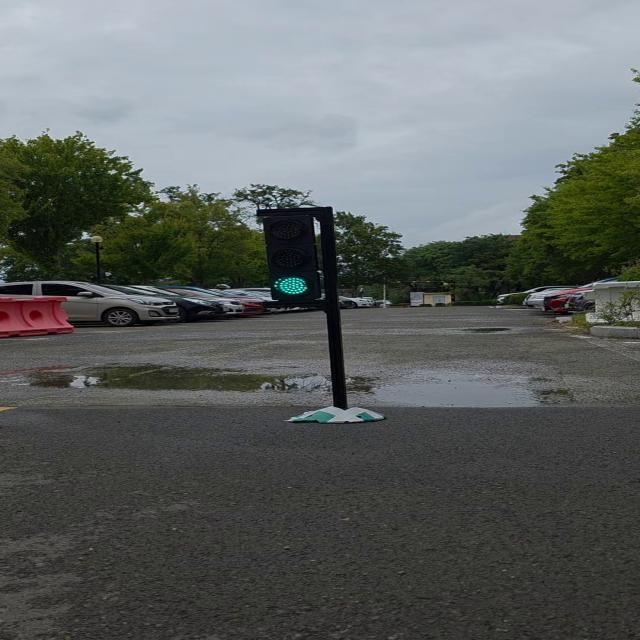green: (258, 210, 335, 308)
